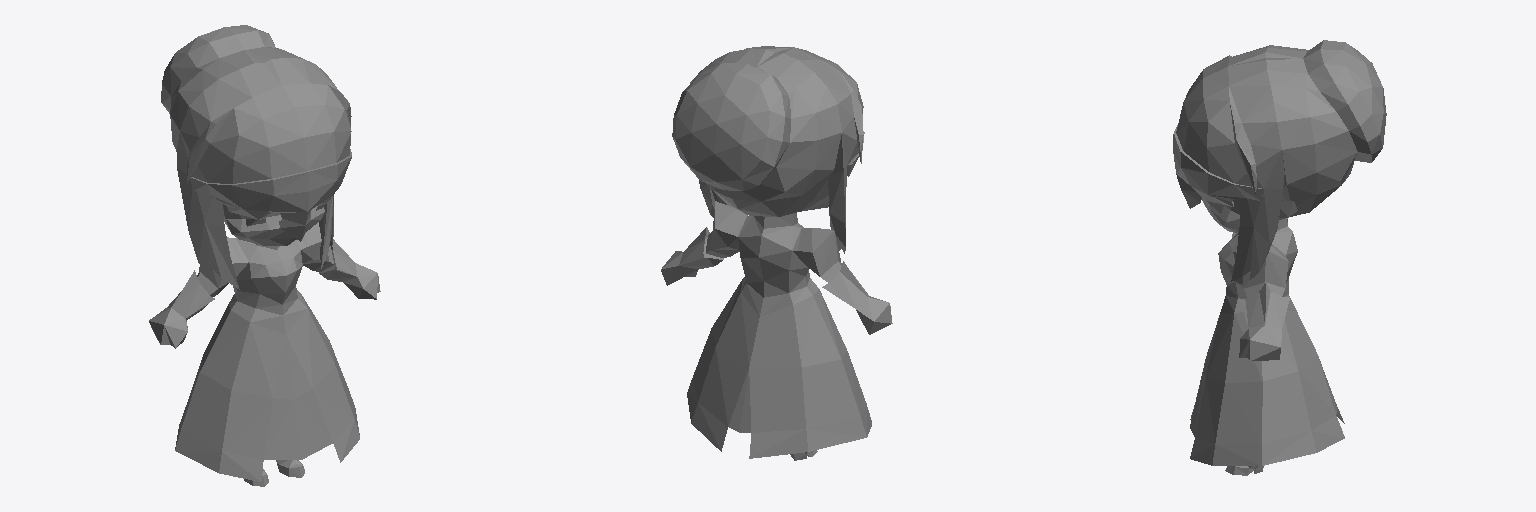
The model's file is SaberAlter.obj.
3 renders of one model, left to right at view 1: azimuth 30°, elevation 25°; view 2: azimuth 150°, elevation 25°; view 3: azimuth 270°, elevation 25°, orthographic.
Parts seen in each view (by area): view 1: Saber; view 2: Saber; view 3: Saber.
Part boxes in pixels (x1,y1,x2,y2): Saber: (149, 25, 380, 486); Saber: (661, 46, 892, 460); Saber: (1173, 40, 1386, 475).
Size of the model in its own units: 0.552 by 0.9928 by 0.4643.